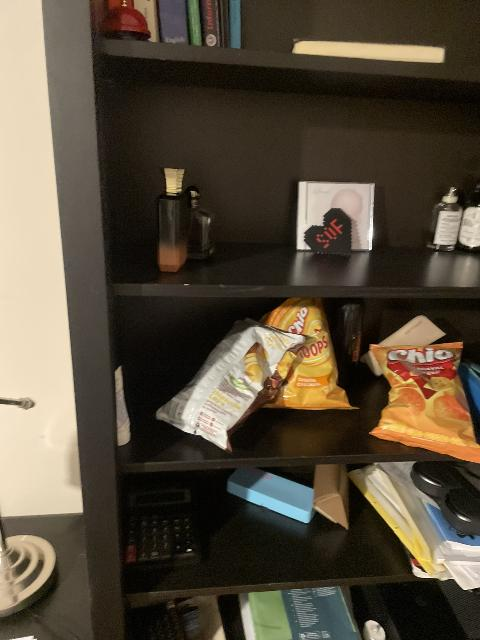Chio Cascaval 125g: (364, 341, 476, 467)
Chio Hula Hoops Cheese 70g: (257, 302, 356, 408)
Lays Beef Grilled Ribs 125g: (158, 320, 312, 452)
